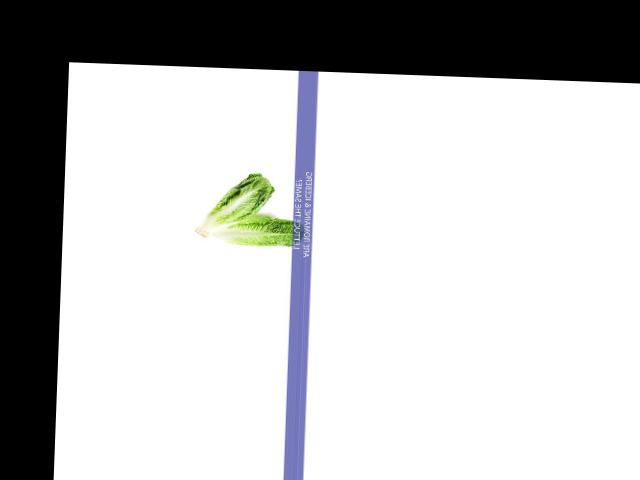lettuce: (184, 174, 279, 239)
